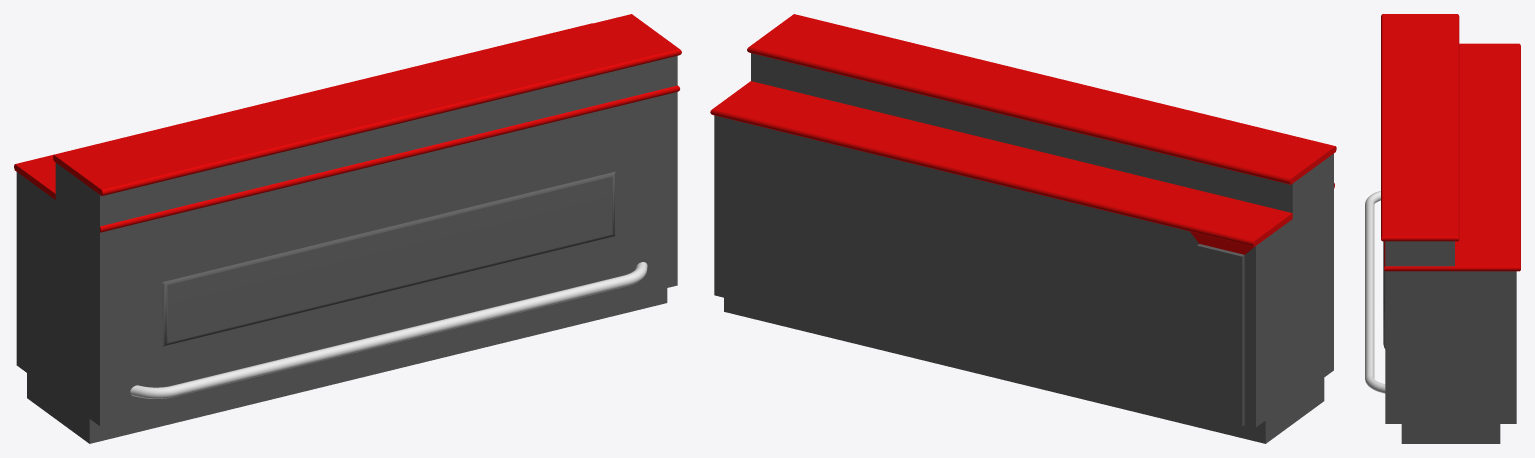
File: M_Bar01.fbx
The picture shows the model from 3 angles, left to right: view 1: azimuth 30°, elevation 25°; view 2: azimuth 150°, elevation 25°; view 3: azimuth 270°, elevation 25°; orthographic projection. The views are drawn at different scales.
Visible parts, largest first — view 1: M_Bar; view 2: M_Bar; view 3: M_Bar.
Part boxes in pixels (bbox=[...]): M_Bar: bbox=[14, 14, 681, 443]; M_Bar: bbox=[710, 14, 1336, 443]; M_Bar: bbox=[1365, 14, 1520, 443].
Bounding box in the file's own units: 244 × 106 × 72.2.
